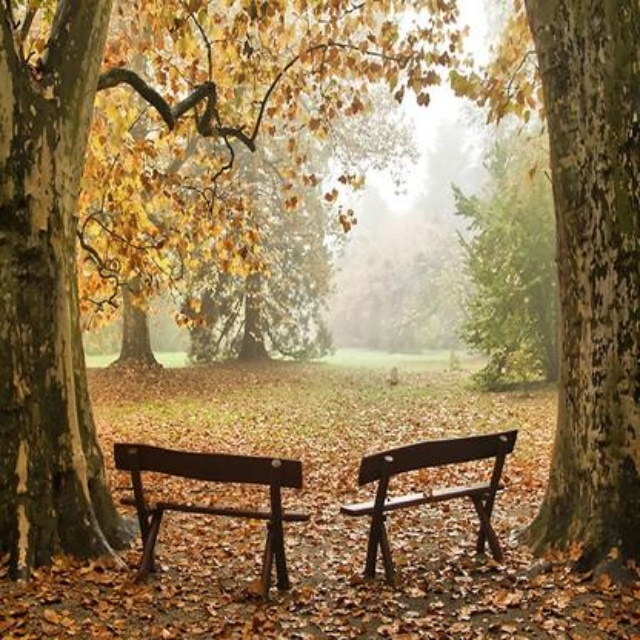obstacle: (100, 431, 308, 602), (346, 434, 537, 583)
